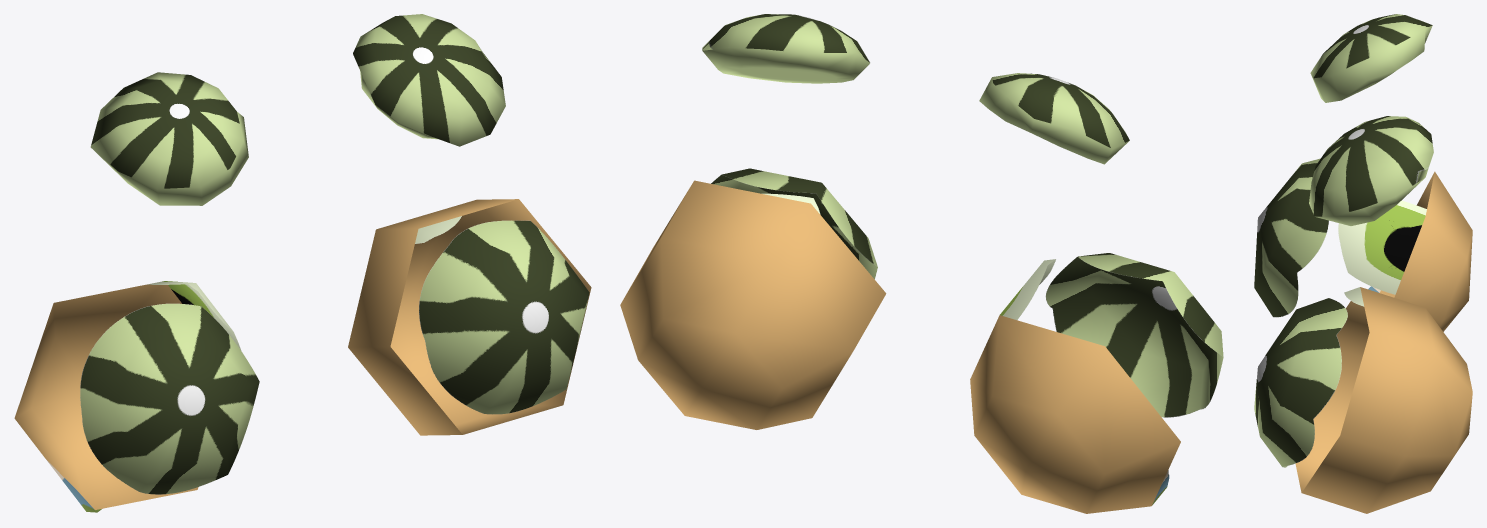
Rendered from potato_eye_multi3.fbx.
3 views of the same model, side by side, from view 1: azimuth 30°, elevation 25°; view 2: azimuth 150°, elevation 25°; view 3: azimuth 270°, elevation 25° (orthographic). The views are drawn at different scales.
Parts seen in each view (by area): view 1: eye4_eye3_pSphere3; view 2: eye4_eye3_pSphere3; view 3: eye4_eye3_pSphere3.
Part boxes in pixels (x1=…): eye4_eye3_pSphere3: x1=14, y1=14, x2=591, y2=512; eye4_eye3_pSphere3: x1=620, y1=14, x2=1223, y2=513; eye4_eye3_pSphere3: x1=1254, y1=14, x2=1472, y2=513.
Bounding box in the file's own units: 1.14 × 0.7809 × 0.4465.
